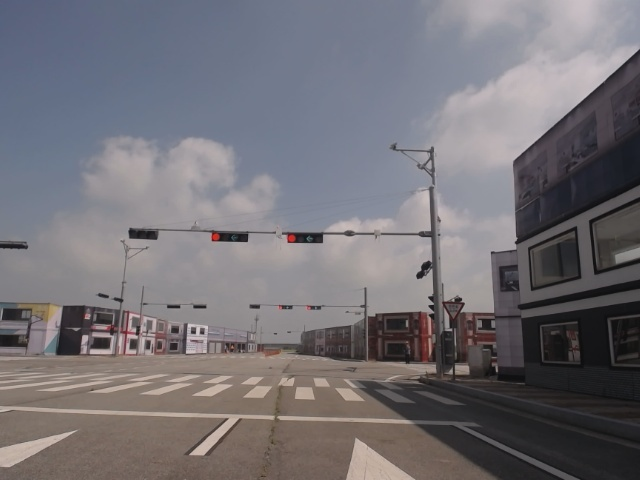left_green_4: (287, 231, 323, 243), (211, 232, 249, 242)
